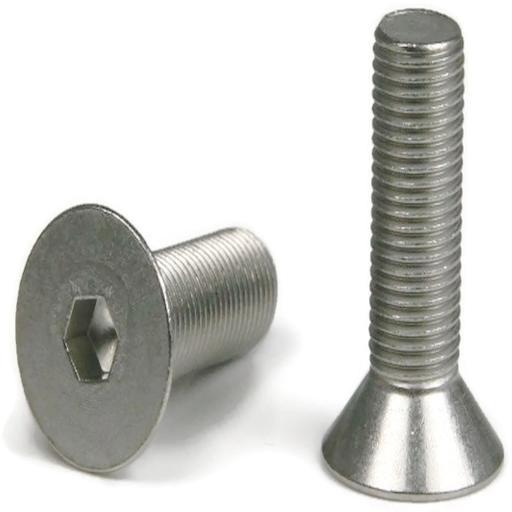Hex-Allen: (17, 205, 173, 476)
